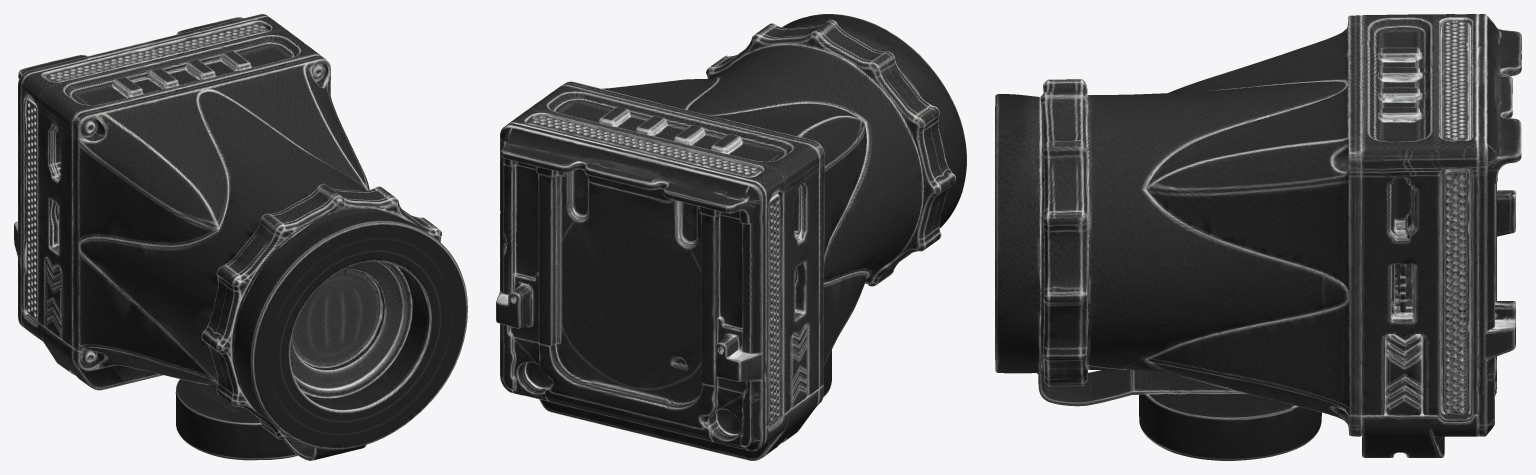
Rendered from hero.glb.
3 renders of one model, left to right at view 1: azimuth 30°, elevation 25°; view 2: azimuth 150°, elevation 25°; view 3: azimuth 270°, elevation 25°, orthographic. The views are drawn at different scales.
Parts seen in each view (by area): view 1: mesh_node; view 2: mesh_node; view 3: mesh_node.
Part boxes in pixels (<box>): mesh_node: <box>14,14,467,460</box>; mesh_node: <box>496,14,966,460</box>; mesh_node: <box>995,14,1521,460</box>.
Size of the model in its own units: 1.2 by 1.38 by 1.9.
Materials: 1 (1 with a texture image).
